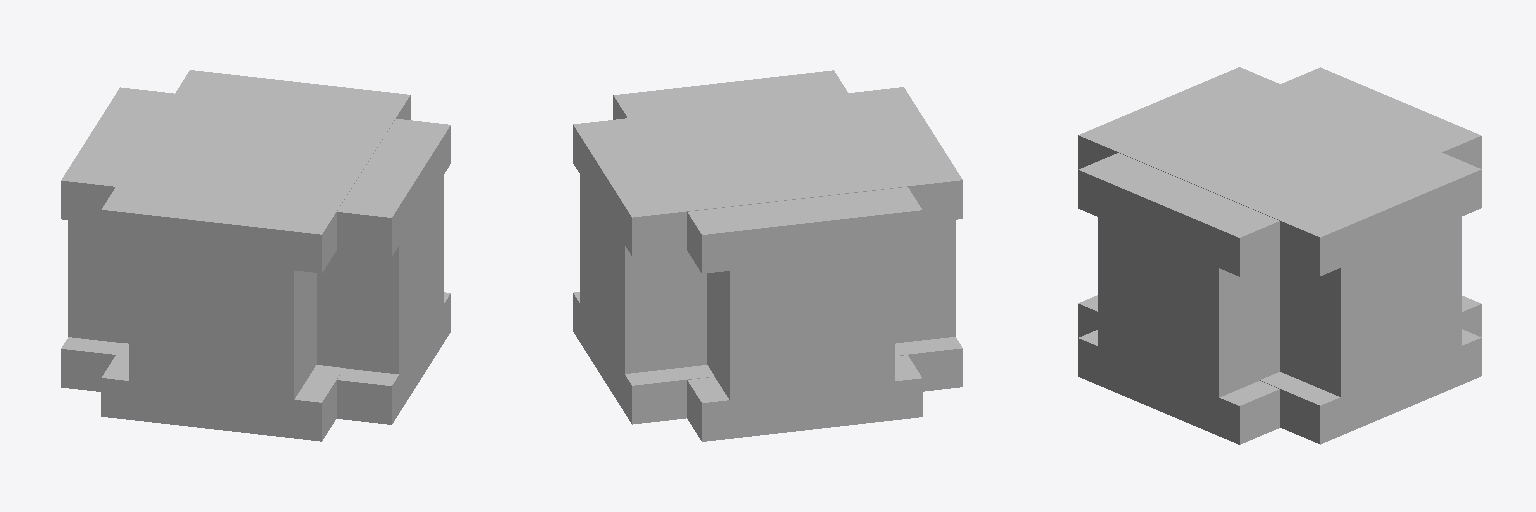
The model's file is cross_diag.obj.
3 renders of one model, left to right at view 1: azimuth 30°, elevation 25°; view 2: azimuth 150°, elevation 25°; view 3: azimuth 270°, elevation 25°, orthographic.
Visible parts, largest first — view 1: real_middle.001, real_middle; view 2: real_middle.001, real_middle; view 3: real_middle.001, real_middle.
Part boxes in pixels (bbox=[...]): real_middle.001: bbox=[101, 70, 410, 441]; real_middle: bbox=[61, 87, 450, 424]; real_middle.001: bbox=[573, 87, 962, 424]; real_middle: bbox=[613, 70, 922, 441]; real_middle.001: bbox=[1078, 67, 1481, 444]; real_middle: bbox=[1078, 67, 1481, 444].
Size of the model in its own units: 1.77 by 1 by 1.77.